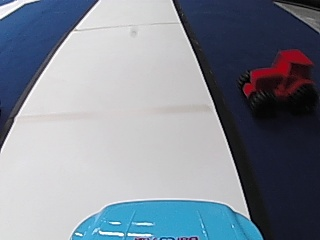tractor: (235, 47, 318, 119)
